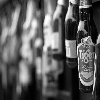beer: (76, 6, 100, 98)
